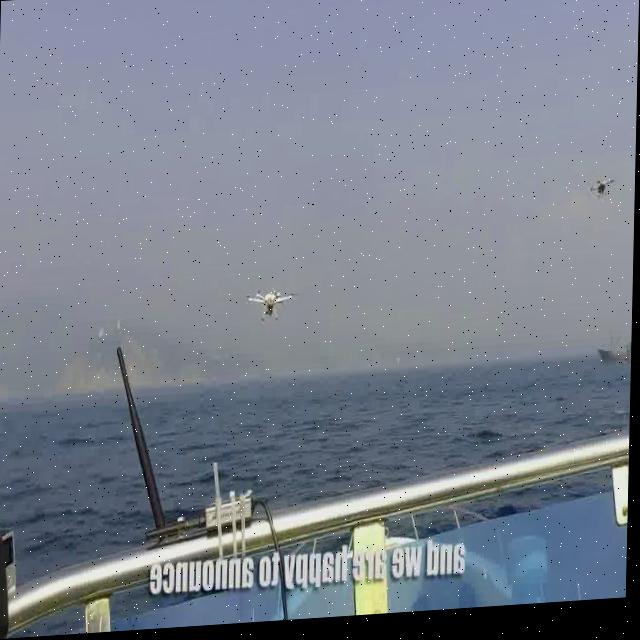drone: (245, 282, 300, 330), (586, 178, 618, 210)
